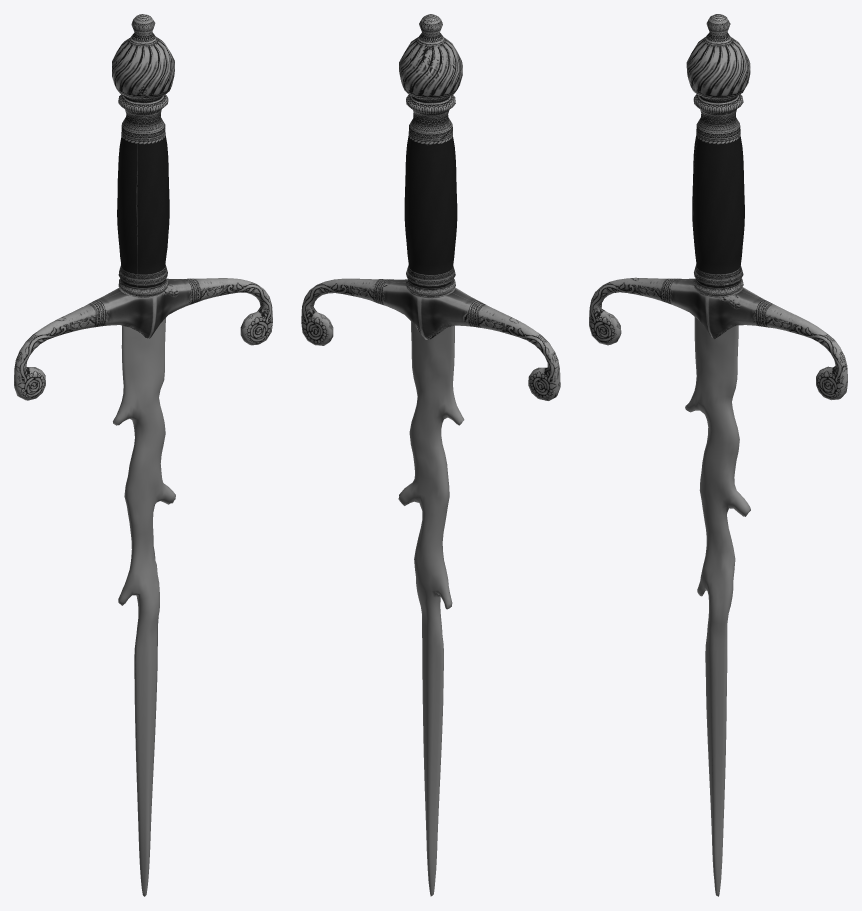
File: dagger.glb
3 renders of one model, left to right at view 1: azimuth 30°, elevation 25°; view 2: azimuth 150°, elevation 25°; view 3: azimuth 330°, elevation 25°, orthographic.
Parts seen in each view (by area): view 1: Daga2_low; view 2: Daga2_low; view 3: Daga2_low.
Boxes of the visible parts, x1,y1,x2,y2 form: Daga2_low: (14,14,272,896); Daga2_low: (301,14,560,896); Daga2_low: (589,14,847,896).
Bounding box in the file's own units: 14.35 × 46.95 × 3.1.
1 material, 1 textured.
